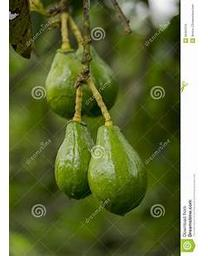avocado: (87, 125, 149, 216), (43, 47, 100, 116), (53, 120, 98, 200), (72, 39, 119, 111)
